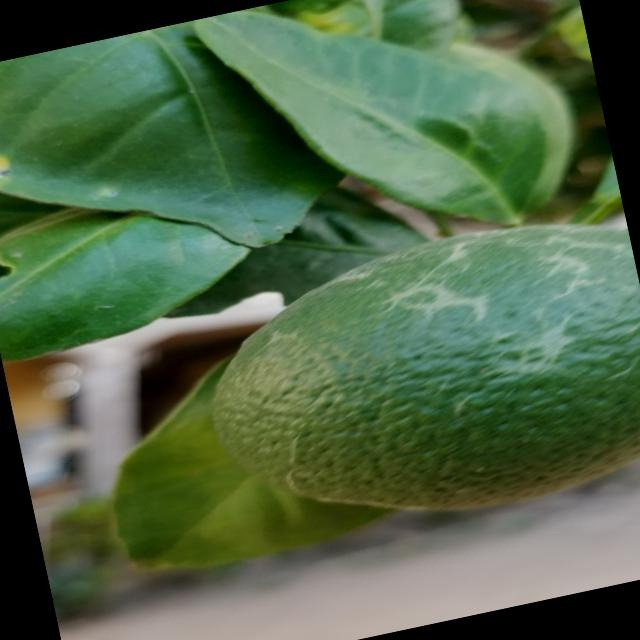agrume: (186, 193, 640, 565)
